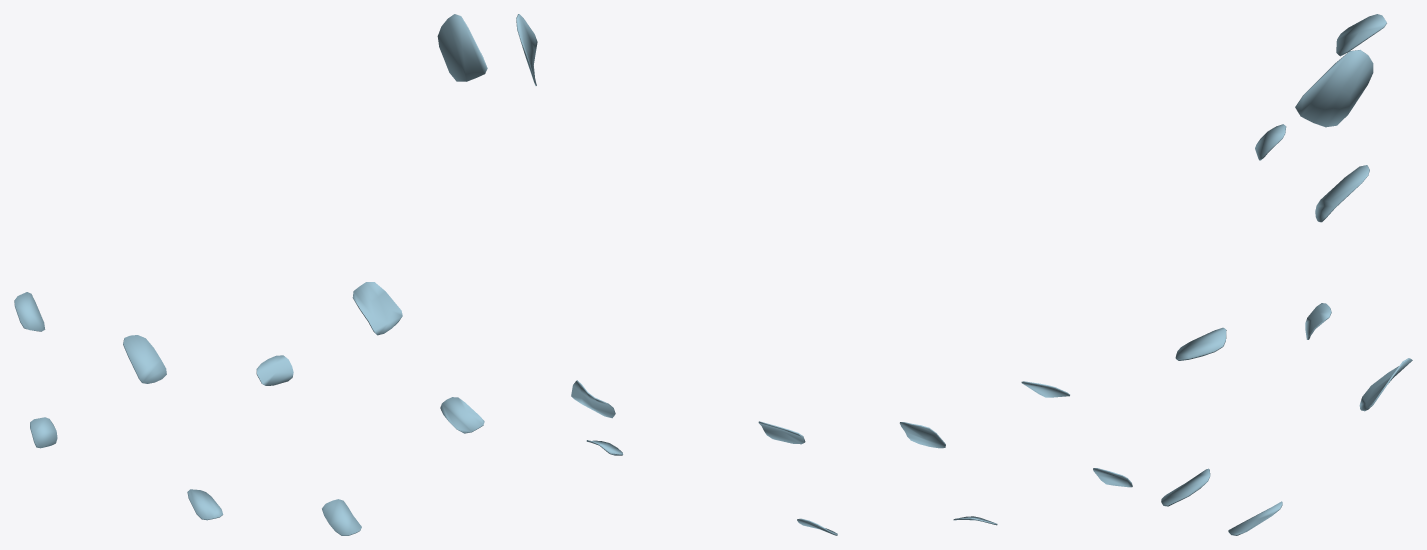
File: articulacoes-palmar-interphalangeal-ligaments-l.glb
The picture shows the model from 3 angles, left to right: view 1: azimuth 30°, elevation 25°; view 2: azimuth 150°, elevation 25°; view 3: azimuth 270°, elevation 25°; orthographic projection. The views are drawn at different scales.
Visible parts, largest first — view 1: Palmar interphalangeal ligaments.l; view 2: Palmar interphalangeal ligaments.l; view 3: Palmar interphalangeal ligaments.l.
Part boxes in pixels (x1,y1,x2,y2): Palmar interphalangeal ligaments.l: [14, 14, 487, 535]; Palmar interphalangeal ligaments.l: [516, 14, 1132, 535]; Palmar interphalangeal ligaments.l: [1161, 14, 1412, 535].
Size of the model in its own units: 0.096 by 0.0834 by 0.0335.
